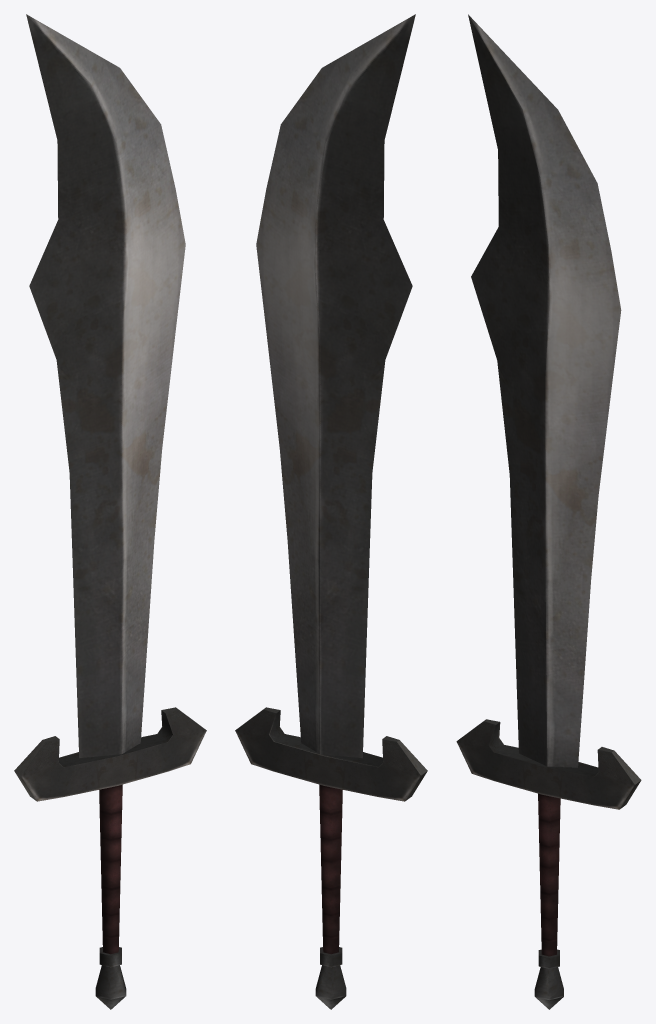
The model's file is 30_weapon.FBX.
3 views of the same model, side by side, from view 1: azimuth 30°, elevation 25°; view 2: azimuth 150°, elevation 25°; view 3: azimuth 330°, elevation 25° (orthographic). The views are drawn at different scales.
Parts seen in each view (by area): view 1: 30_sword; view 2: 30_sword; view 3: 30_sword.
Boxes of the visible parts, x1,y1,x2,y2 form: 30_sword: [14, 14, 206, 1009]; 30_sword: [235, 14, 427, 1009]; 30_sword: [456, 14, 641, 1009].
Size of the model in its own units: 679 by 3545 by 97.14.
